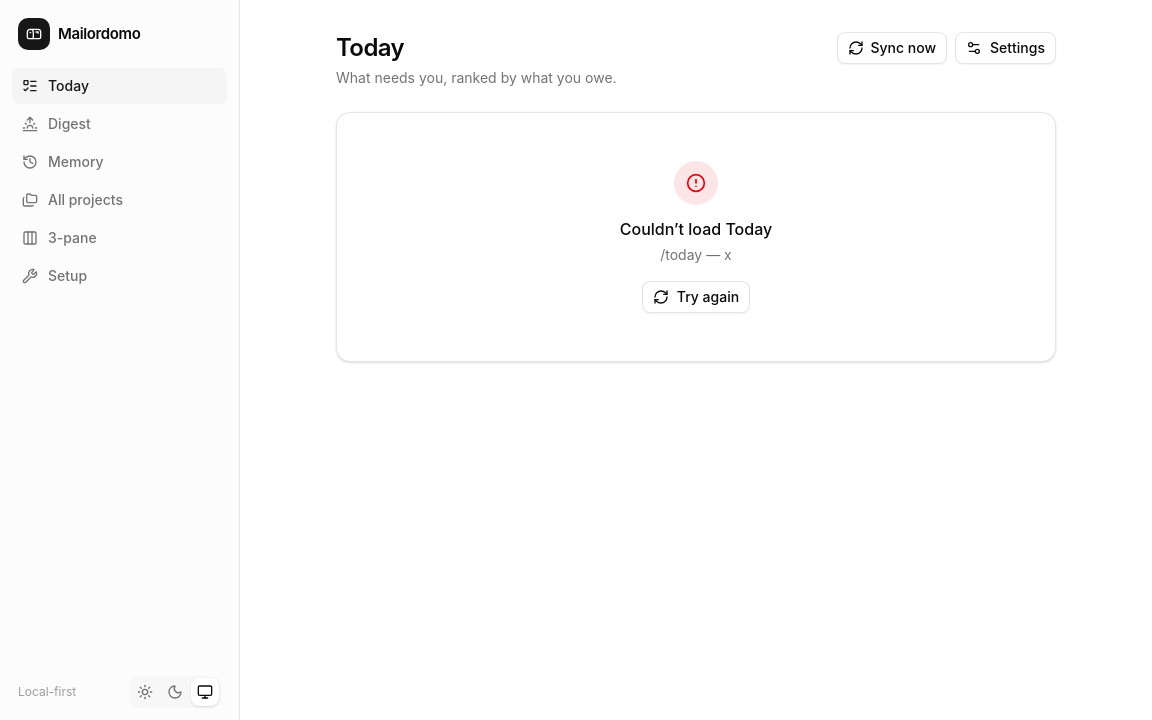
Test case: App view toggle (PROJECT.md §11 — never trapped; D32) › switches Today → All projects → 3-pane → Memory → back to Today via the sidebar
Expected: the text "What needs you, ranked by what you owe." is shown, x1=336 y1=68 x2=617 y2=88
# → All projects board (the resolved project name heads its section).
Click the button "All projects" at point(120, 200), box x1=12 y1=182 x2=227 y2=218
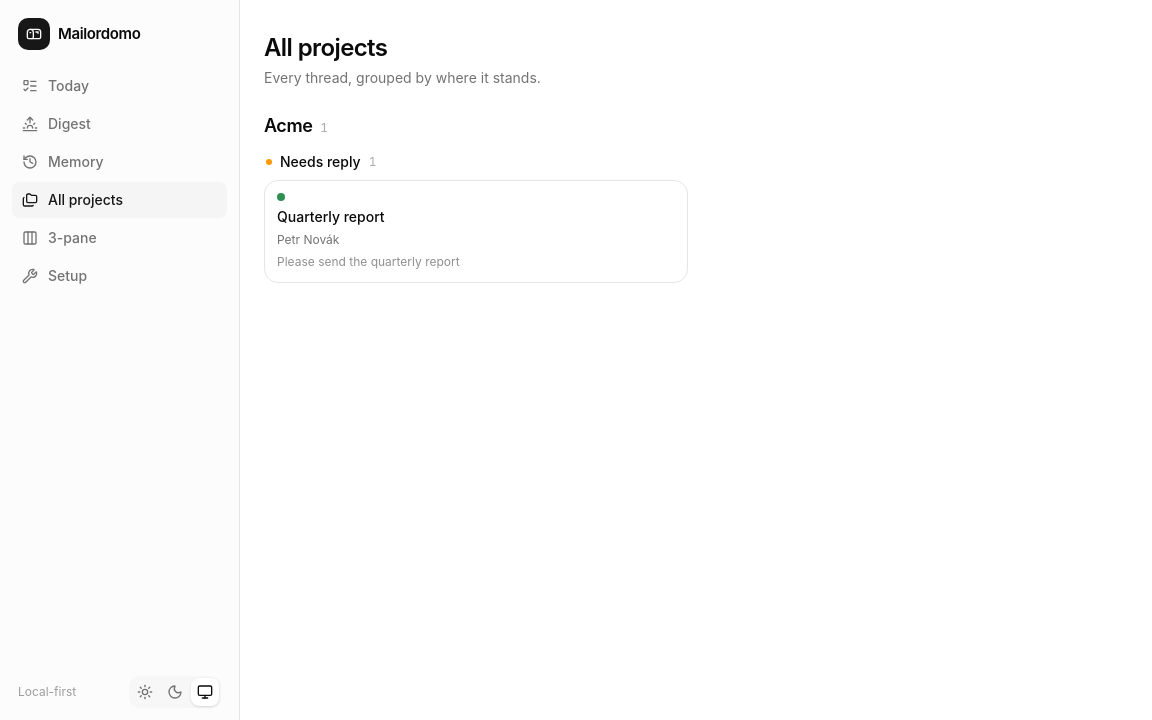
Now the heading "Acme" is shown, box x1=264 y1=112 x2=312 y2=140
# → 3-pane fallback (its reading-pane empty state is unique to the fallback).
Click the button "3-pane" at point(120, 238), box x1=12 y1=220 x2=227 y2=256
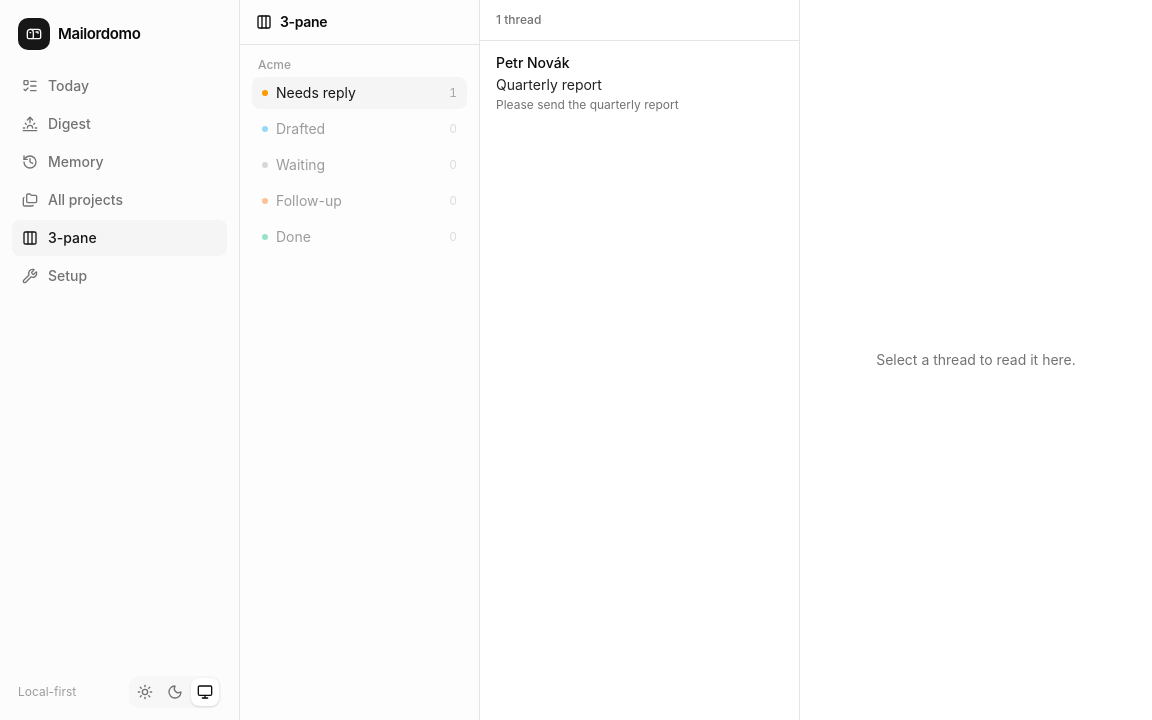
Now the text "Select a thread to read it here." is shown, box x1=876 y1=351 x2=1076 y2=368
# → Memory changelog.
Click the button "Memory" at point(120, 162), box x1=12 y1=144 x2=227 y2=180
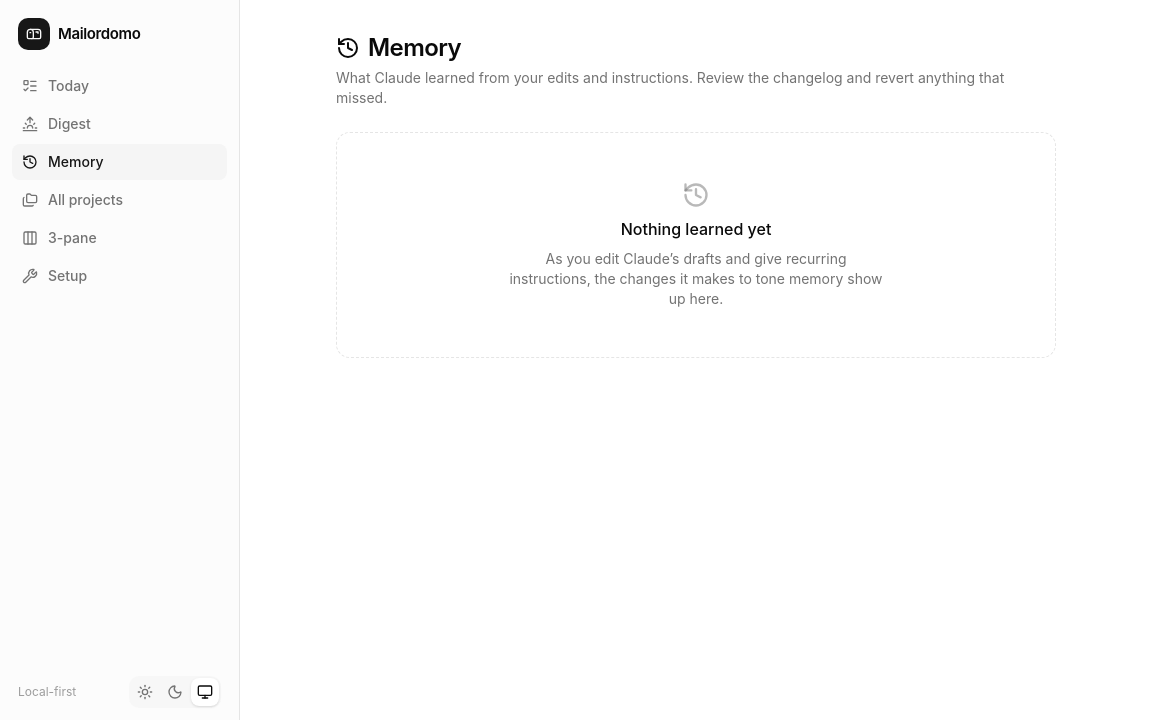
Now the heading "Memory" is shown, box x1=336 y1=33 x2=461 y2=62
# → back to Today.
Click the button "Today" at point(120, 86), box x1=12 y1=68 x2=227 y2=104
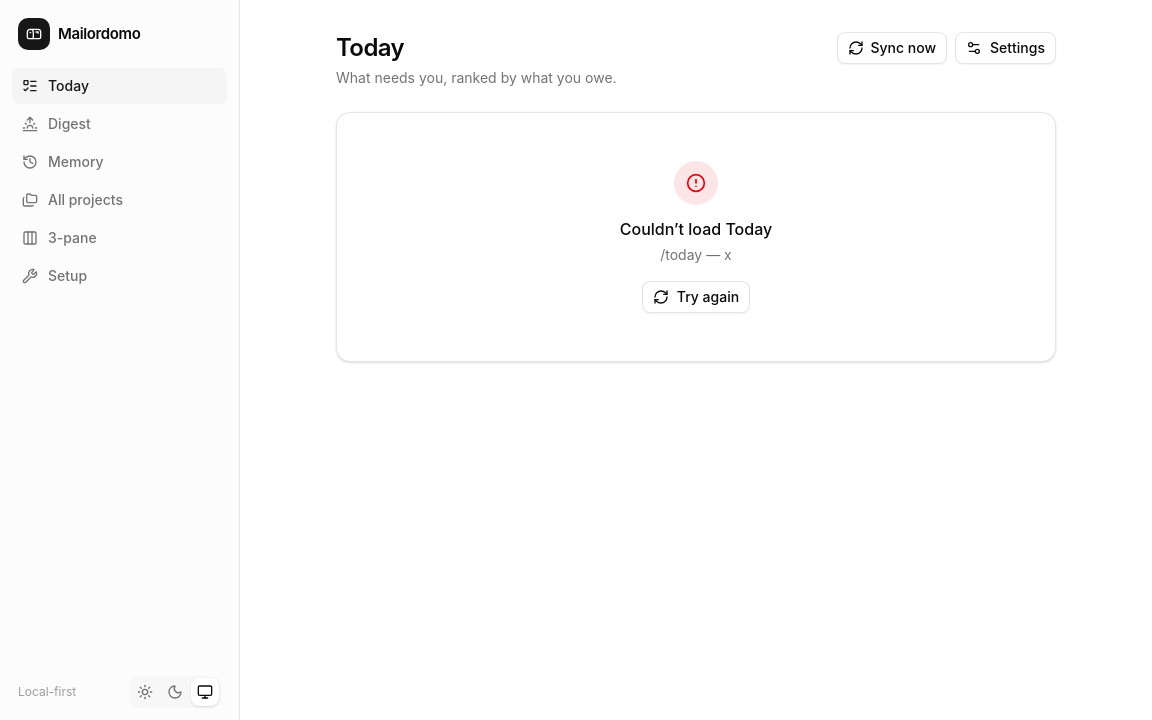
Now the text "What needs you, ranked by what you owe." is shown, box x1=336 y1=68 x2=617 y2=88
